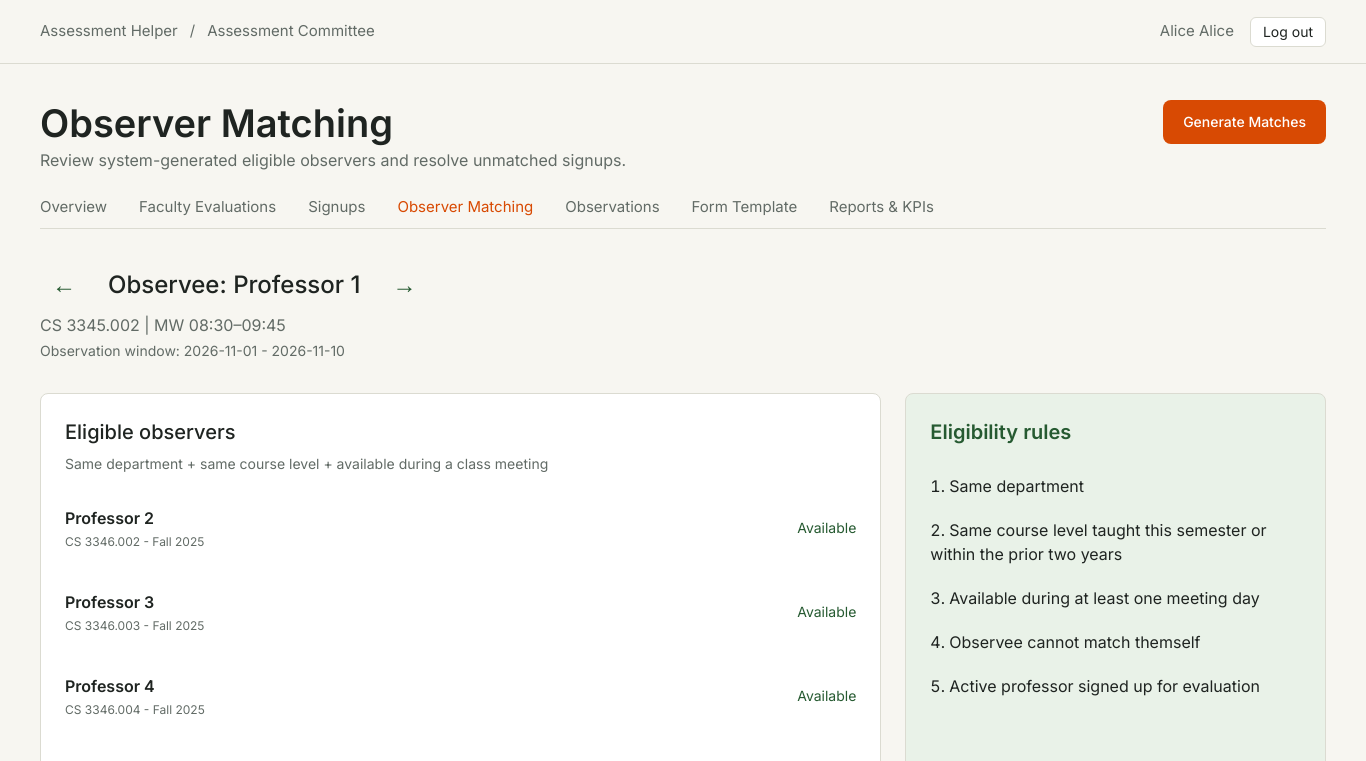
Test: allows generation before the signup deadline
Expected: the heading "Observee: Professor 1" is shown, [108,269,360,301]
What coordinates should you click on to do the following:
click the button "Generate Matches"
I would click on:
 (1245, 122)
Its box is [1163,100,1326,144].
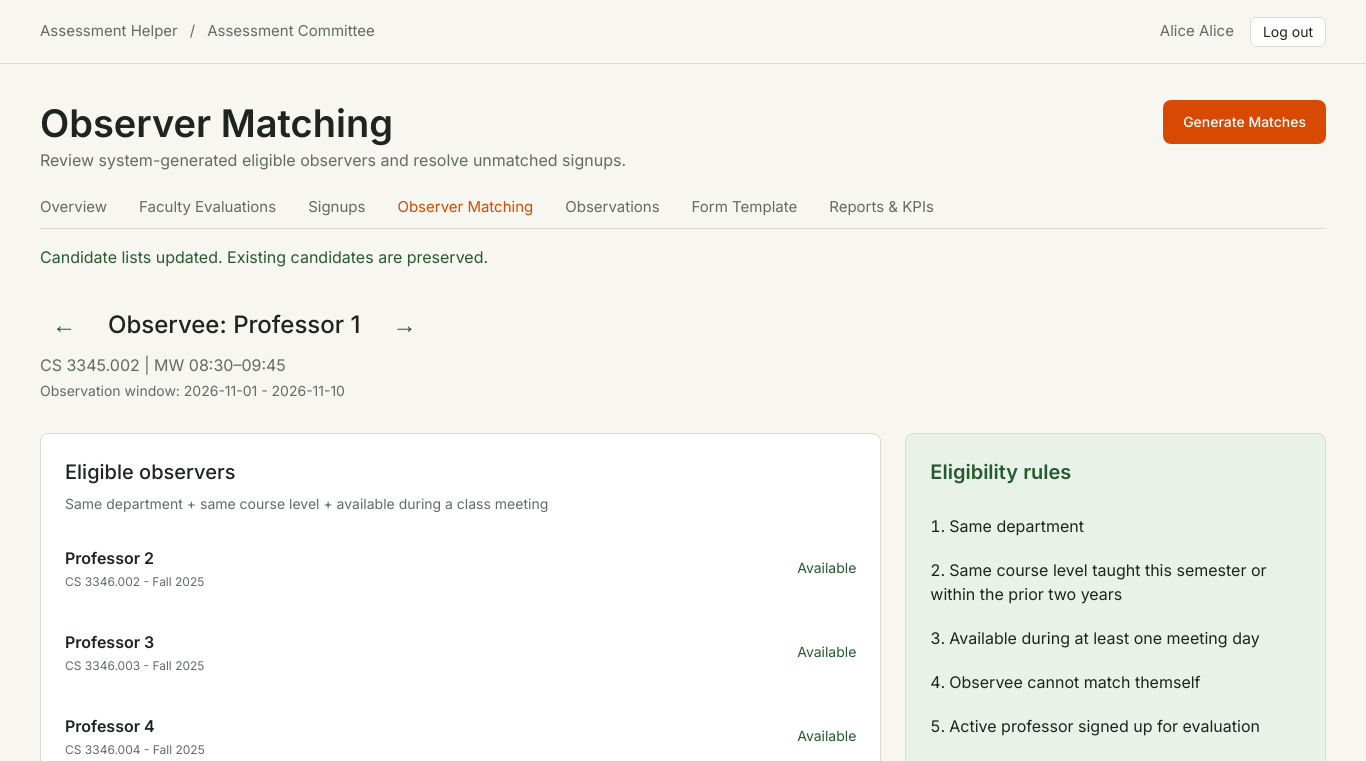
Expected: the message "Candidate lists updated. Existing candidates are preserved." is shown, [40,247,488,267]
